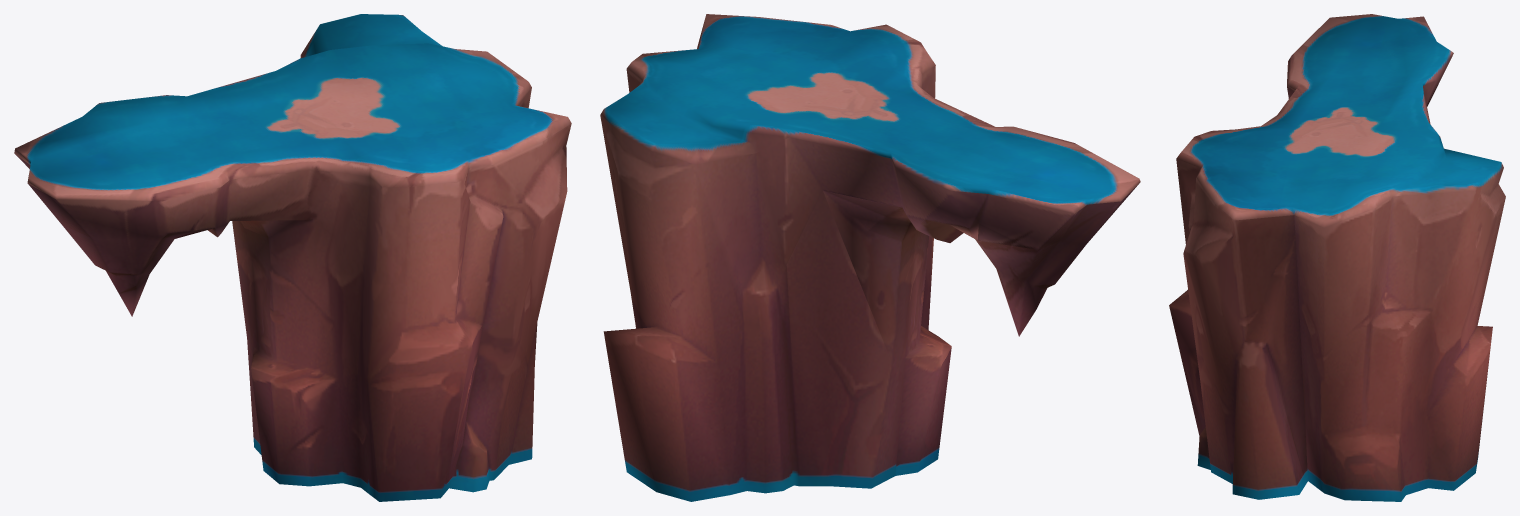
The model's file is nameikexingcunzhuang_shitou01.FBX.
3 renders of one model, left to right at view 1: azimuth 30°, elevation 25°; view 2: azimuth 150°, elevation 25°; view 3: azimuth 270°, elevation 25°, orthographic. The views are drawn at different scales.
Visible parts, largest first — view 1: nameikexingcunzhuang_shitou01; view 2: nameikexingcunzhuang_shitou01; view 3: nameikexingcunzhuang_shitou01.
Boxes of the visible parts, box(x1,y1,x2,y2) form: nameikexingcunzhuang_shitou01: box(14, 14, 571, 501); nameikexingcunzhuang_shitou01: box(600, 14, 1140, 501); nameikexingcunzhuang_shitou01: box(1169, 14, 1505, 501).
Size of the model in its own units: 1503 by 1040 by 1024.
